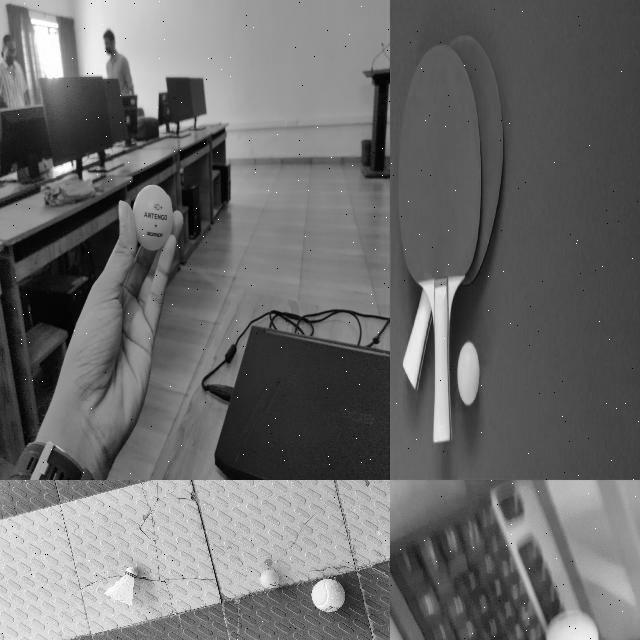ping-pong-ball: (130, 184, 172, 250), (547, 608, 602, 639), (456, 342, 479, 404), (259, 568, 281, 590)
